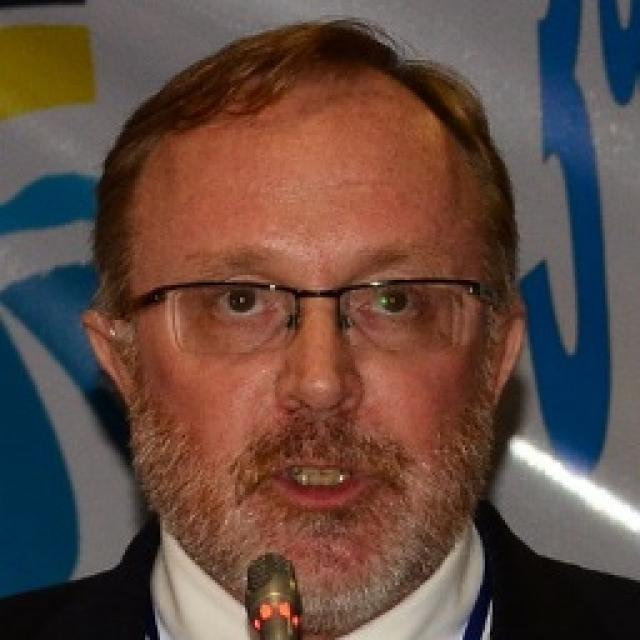glasses: (116, 260, 512, 370)
